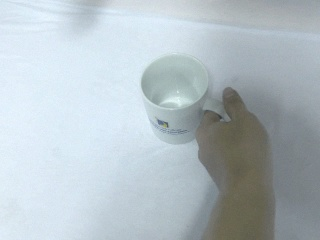cup: (139, 52, 210, 145)
